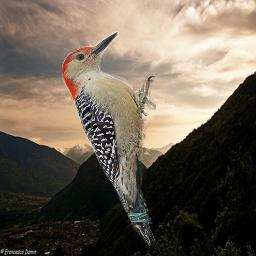Woodpecker: (62, 29, 156, 247)
